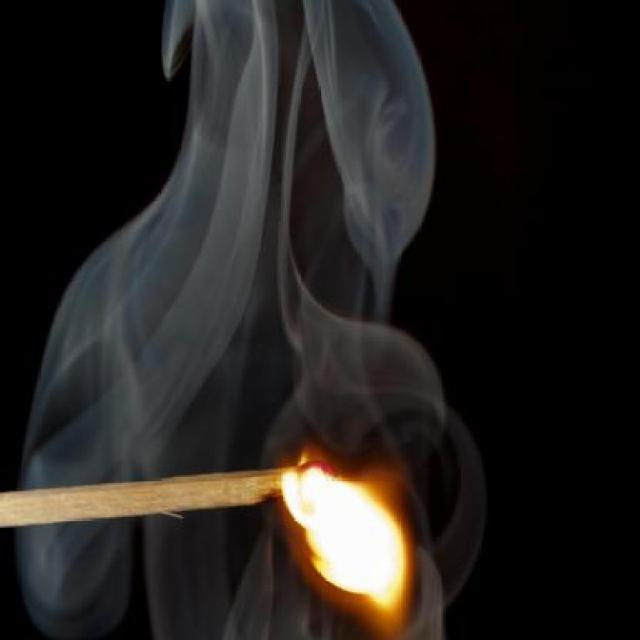Fire: (280, 458, 427, 628)
Smoke: (0, 0, 500, 640)
